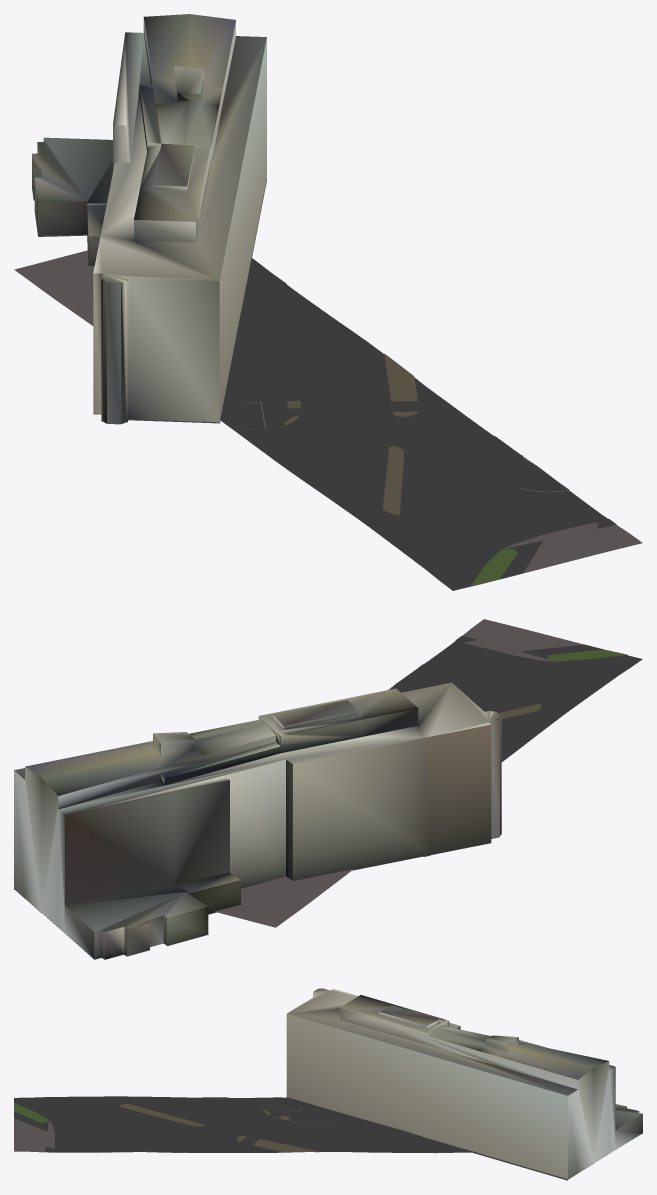
The picture shows the model from 3 angles, top to bottom: view 1: azimuth 30°, elevation 25°; view 2: azimuth 150°, elevation 25°; view 3: azimuth 270°, elevation 25°; orthographic projection. The views are drawn at different scales.
Visible parts, largest first — view 1: c_p06_m14; view 2: c_p06_m14; view 3: c_p06_m14.
Part boxes in pixels (bbox=[...]): c_p06_m14: bbox=[14, 14, 642, 590]; c_p06_m14: bbox=[14, 619, 642, 959]; c_p06_m14: bbox=[14, 988, 642, 1180].
Size of the model in its own units: 62.88 by 28.57 by 155.
